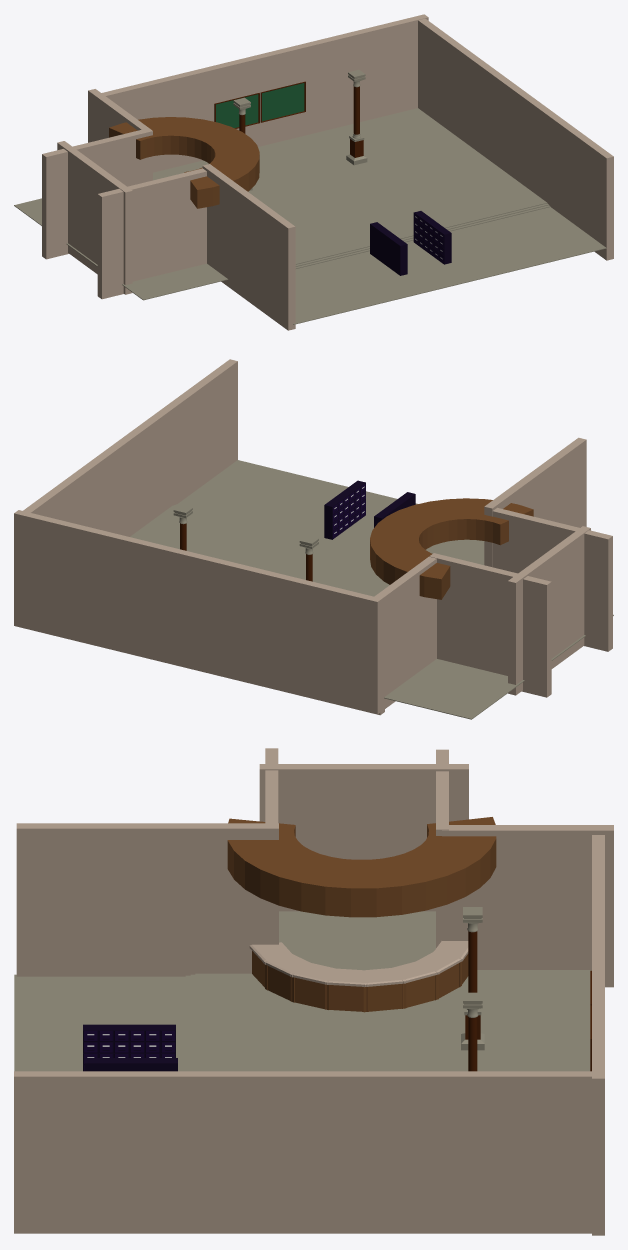
File: school lounge.fbx
3 views of the same model, one above another, from view 1: azimuth 30°, elevation 25°; view 2: azimuth 150°, elevation 25°; view 3: azimuth 270°, elevation 25° (orthographic). The views are drawn at different scales.
Visible parts, largest first — view 1: Tembok, Cube.007, Plane.001, Cube.006, Cube.005, Cube.001, Cube, Cube.003; view 2: Tembok, Cube.007, Plane.001, Cube.005, Cube.001; view 3: Tembok, Cube.007, Plane.001, Cube.008, Cube.001, Cube.002, Cube.005, Cube.003.
Boxes of the visible parts, x1,y1,x2,y2 form: Tembok: [42, 14, 613, 330]; Cube.007: [14, 108, 606, 324]; Plane.001: [109, 117, 259, 208]; Cube.006: [260, 81, 305, 122]; Cube.005: [413, 211, 451, 264]; Cube.001: [370, 222, 407, 275]; Cube: [214, 93, 259, 128]; Cube.003: [346, 69, 367, 165]; Tembok: [14, 359, 612, 715]; Cube.007: [130, 460, 613, 719]; Plane.001: [370, 498, 533, 599]; Cube.005: [324, 480, 365, 539]; Cube.001: [374, 492, 415, 527]; Tembok: [14, 748, 613, 1235]; Cube.007: [14, 911, 591, 1071]; Plane.001: [227, 817, 496, 917]; Cube.008: [249, 941, 468, 1012]; Cube.001: [83, 1024, 175, 1071]; Cube.002: [461, 907, 484, 1050]; Cube.005: [84, 1058, 177, 1071]; Cube.003: [463, 992, 482, 1071].
Size of the model in its own units: 4993 by 1202 by 3907.
